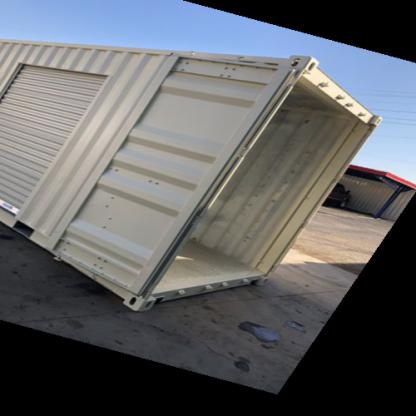Damage: (236, 118, 322, 237), (85, 172, 161, 276)
